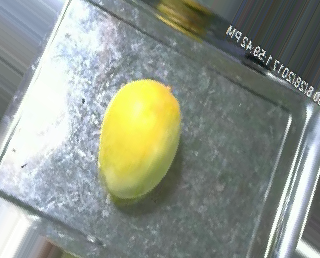Mango: (96, 69, 194, 208)
